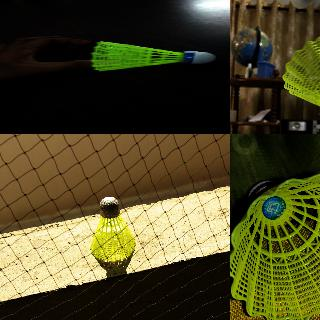shuttlecock: (230, 173, 319, 319), (89, 41, 213, 71), (281, 37, 319, 134), (90, 196, 136, 260)
